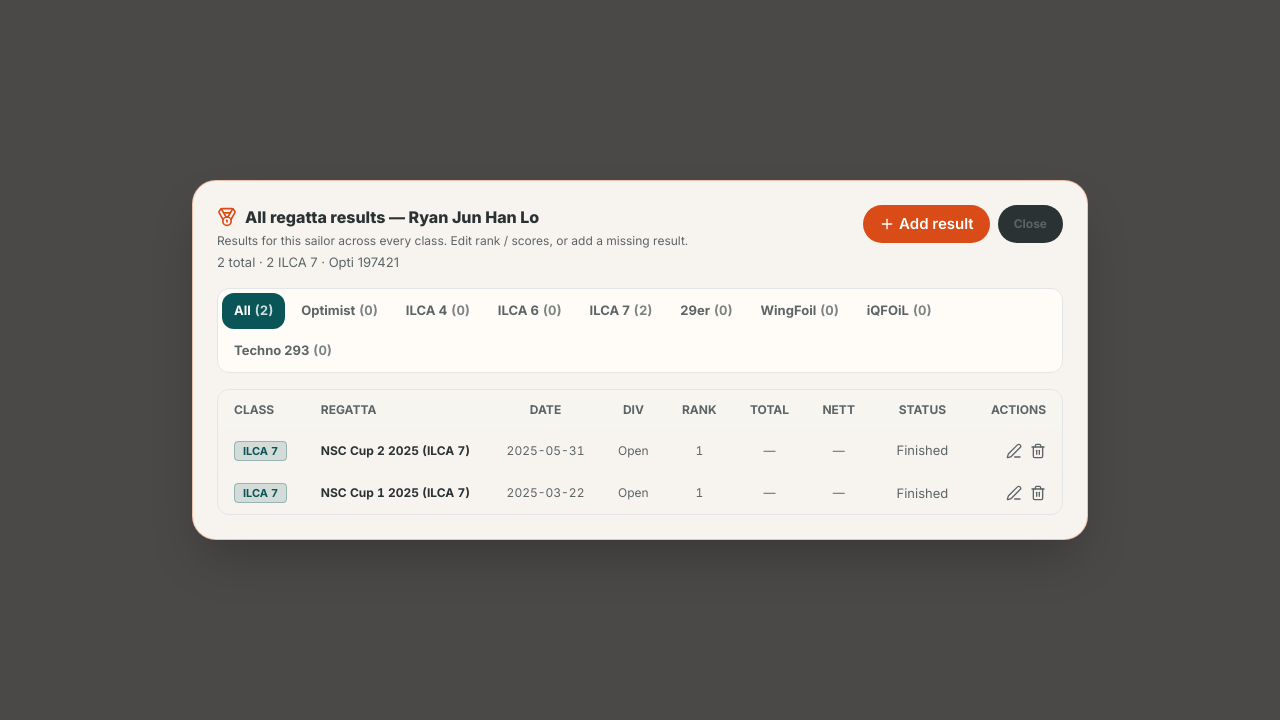
Test: AdminCompetitionsPanel classes › puts ILCA 7 results on the ILCA 7 tab
expect the tab "ILCA 7(2)" is shown: met, box [578,293,664,329]
expect the tab "ILCA 4(0)" is shown: met, box [394,293,482,329]
Click the tab "Optimist(0)": [340, 311] box [289,293,390,329]
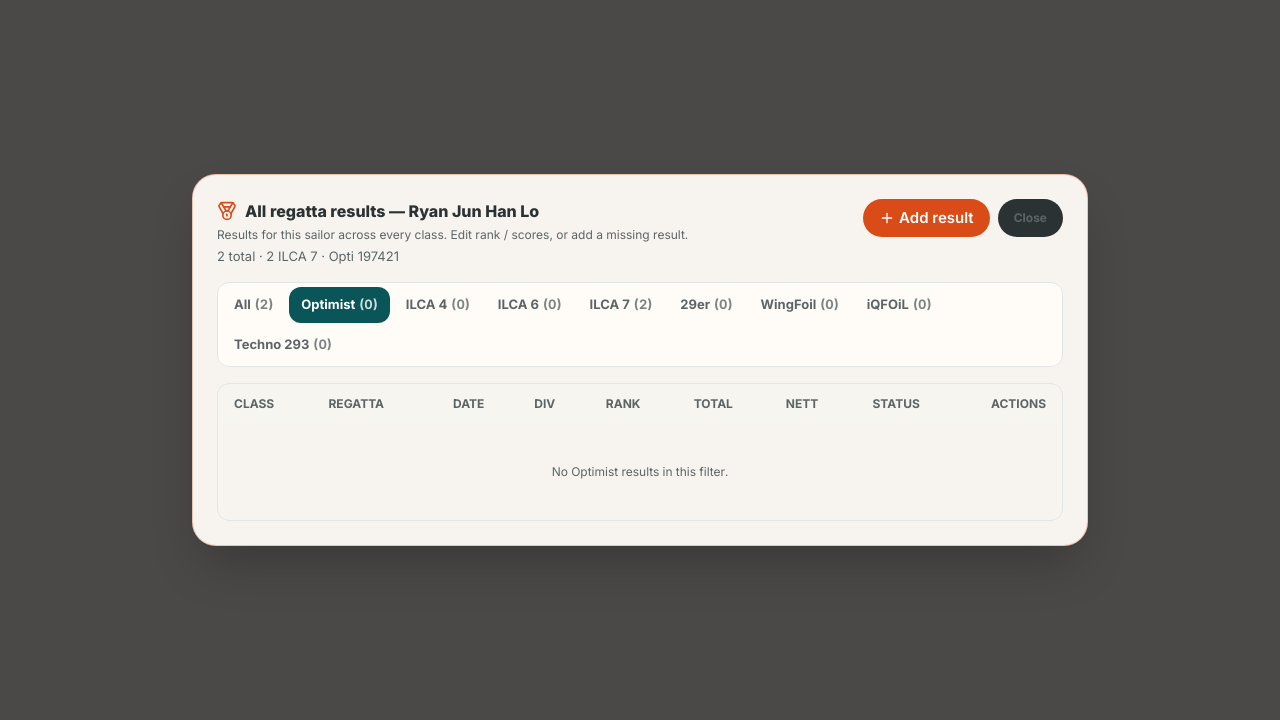
expect the text "NSC Cup 2 2025 (ILCA 7)" is gone: met
expect the text "No Optimist results in this filter." is shown: met, box [218,424,1062,520]
Click the tab "ILCA 7(2)": [621, 305] box [578,287,664,323]
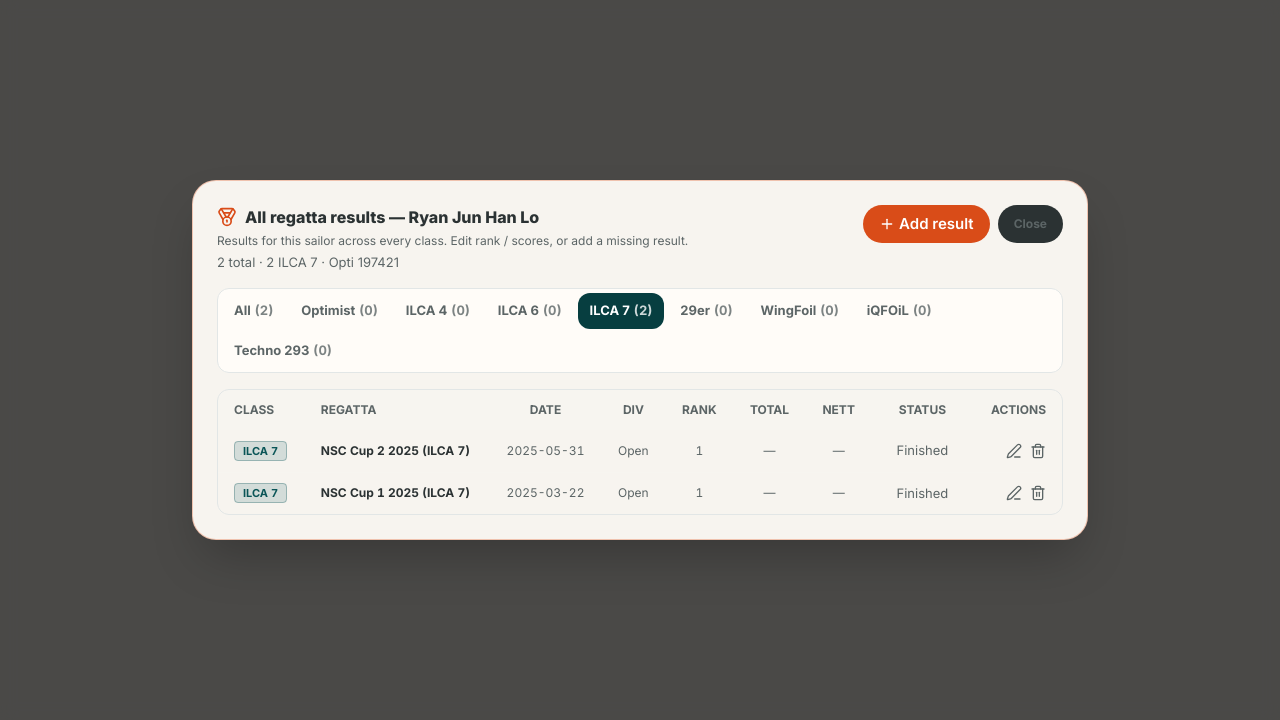
expect the text "NSC Cup 1 2025 (ILCA 7)" is shown: met, box [305,472,490,514]
expect the text "NSC Cup 2 2025 (ILCA 7)" is shown: met, box [305,430,490,472]
